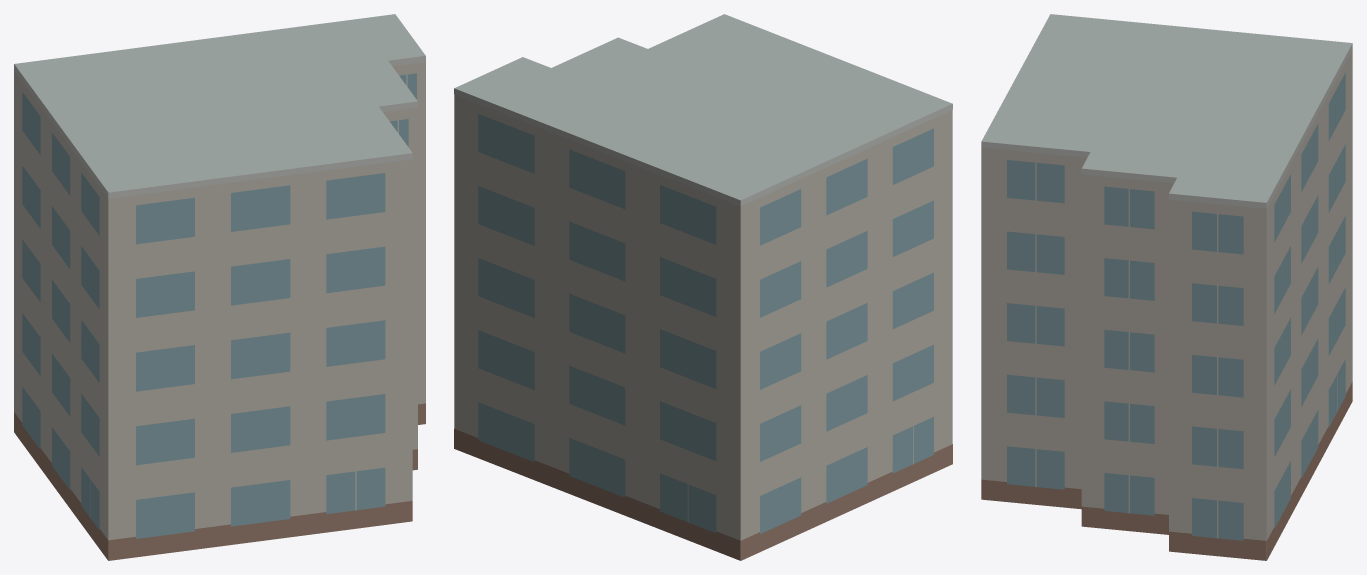
File: survey-upis-32963900.glb
3 views of the same model, side by side, from view 1: azimuth 30°, elevation 25°; view 2: azimuth 150°, elevation 25°; view 3: azimuth 270°, elevation 25° (orthographic). The views are drawn at different scales.
Parts seen in each view (by area): view 1: survey-upis-32963900.tmp; view 2: survey-upis-32963900.tmp; view 3: survey-upis-32963900.tmp.
Part boxes in pixels (box(x1,y1,x2,y2)): survey-upis-32963900.tmp: box(14, 14, 425, 560); survey-upis-32963900.tmp: box(454, 14, 952, 560); survey-upis-32963900.tmp: box(981, 14, 1352, 560).
Size of the model in its own units: 16.48 by 14.56 by 13.7.
